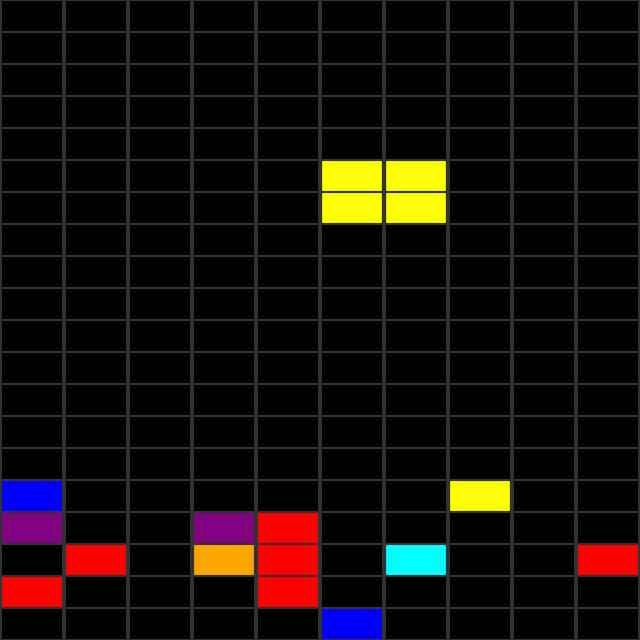Tetrimino_O: (325, 162, 443, 220)
